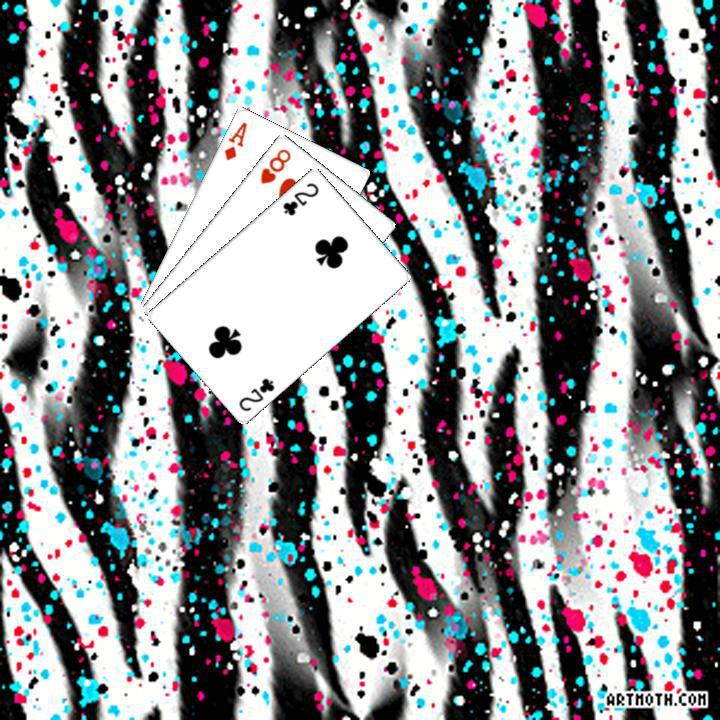2: (278, 178, 321, 218), (234, 373, 277, 413)
8: (256, 144, 293, 185)
A: (219, 117, 249, 162)
